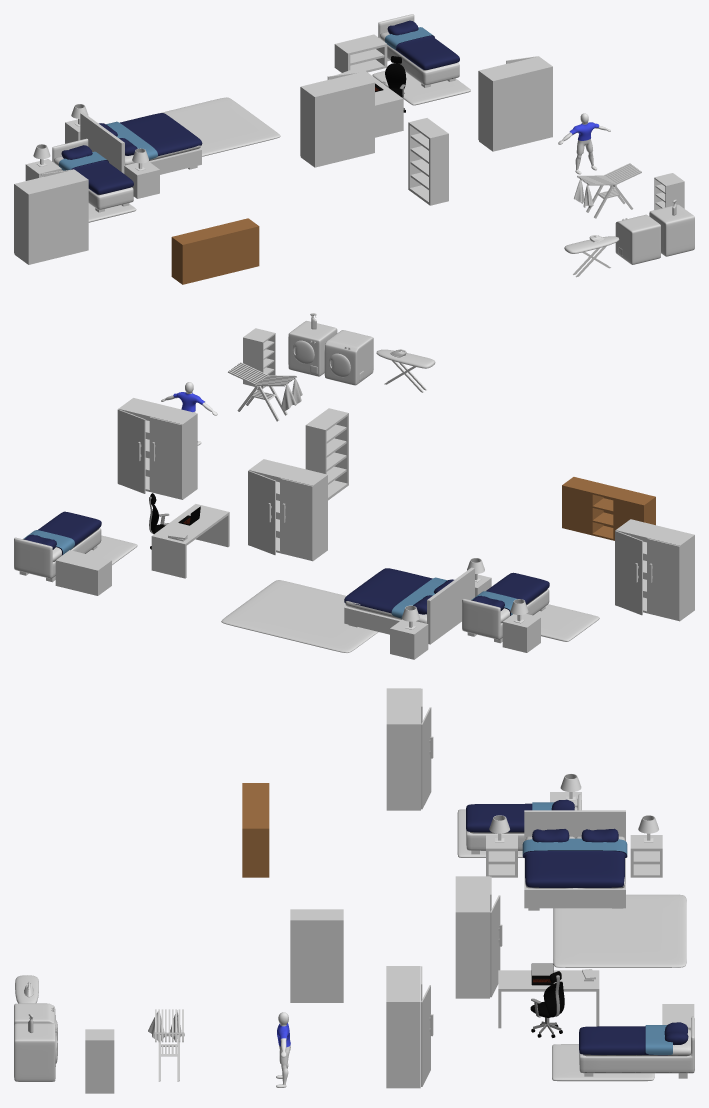
The model's file is models_boven_sepp.fbx.
The picture shows the model from 3 angles, top to bottom: view 1: azimuth 30°, elevation 25°; view 2: azimuth 150°, elevation 25°; view 3: azimuth 270°, elevation 25°; orthographic projection. The views are drawn at different scales.
Parts seen in each view (by area): view 1: Cube.453, Cube.444, Cube.460, Cube.473, Cube.341, Cube.486, Cube.395, Cube.384, Cube.405, Cube.474, Cube.403, Cube.416 (+16 smaller); view 2: Cube.341, Cube.473, Cube.416, Cube.395, Cube.460, Cube.446, Cube.451, Cube.458, Cube.444, Cube.453, Cube.486, Cube.384 (+19 smaller); view 3: Cube.341, Cube.486, Cube.395, Cube.444, Cube.453, Cube.460, Cube.384, Cube.473, Cube.474, Cube.377, Cube.398, Cube.509 (+13 smaller).
Boxes of the visible parts, <box> form: Cube.453: <box>14,169,88,264</box>; Cube.444: <box>300,72,374,167</box>; Cube.460: <box>479,56,552,151</box>; Cube.473: <box>171,218,259,284</box>; Cube.341: <box>161,97,280,156</box>; Cube.486: <box>408,118,448,205</box>; Cube.395: <box>80,112,201,174</box>; Cube.384: <box>120,113,202,156</box>; Cube.405: <box>615,214,660,264</box>; Cube.474: <box>649,204,694,256</box>; Cube.403: <box>334,34,387,72</box>; Cube.416: <box>334,68,403,137</box>; Cube.341: <box>221,580,378,652</box>; Cube.473: <box>562,477,655,540</box>; Cube.416: <box>151,504,229,578</box>; Cube.395: <box>344,567,474,644</box>; Cube.460: <box>118,398,197,499</box>; Cube.446: <box>280,478,312,560</box>; Cube.451: <box>647,538,679,620</box>; Cube.458: <box>150,417,182,499</box>; Cube.444: <box>249,459,327,561</box>; Cube.453: <box>615,519,694,621</box>; Cube.486: <box>305,408,348,500</box>; Cube.384: <box>344,568,432,613</box>; Cube.341: <box>553,894,686,967</box>; Cube.486: <box>290,909,343,1002</box>; Cube.395: <box>524,810,625,908</box>; Cube.444: <box>455,876,489,998</box>; Cube.453: <box>386,688,420,810</box>; Cube.460: <box>386,966,420,1088</box>; Cube.384: <box>522,850,627,887</box>; Cube.473: <box>242,783,269,877</box>; Cube.474: <box>14,1023,55,1081</box>; Cube.377: <box>579,1016,694,1073</box>; Cube.398: <box>579,1026,667,1055</box>; Cube.509: <box>85,1029,114,1093</box>.
Size of the model in its own units: 1799 by 230 by 1603.
